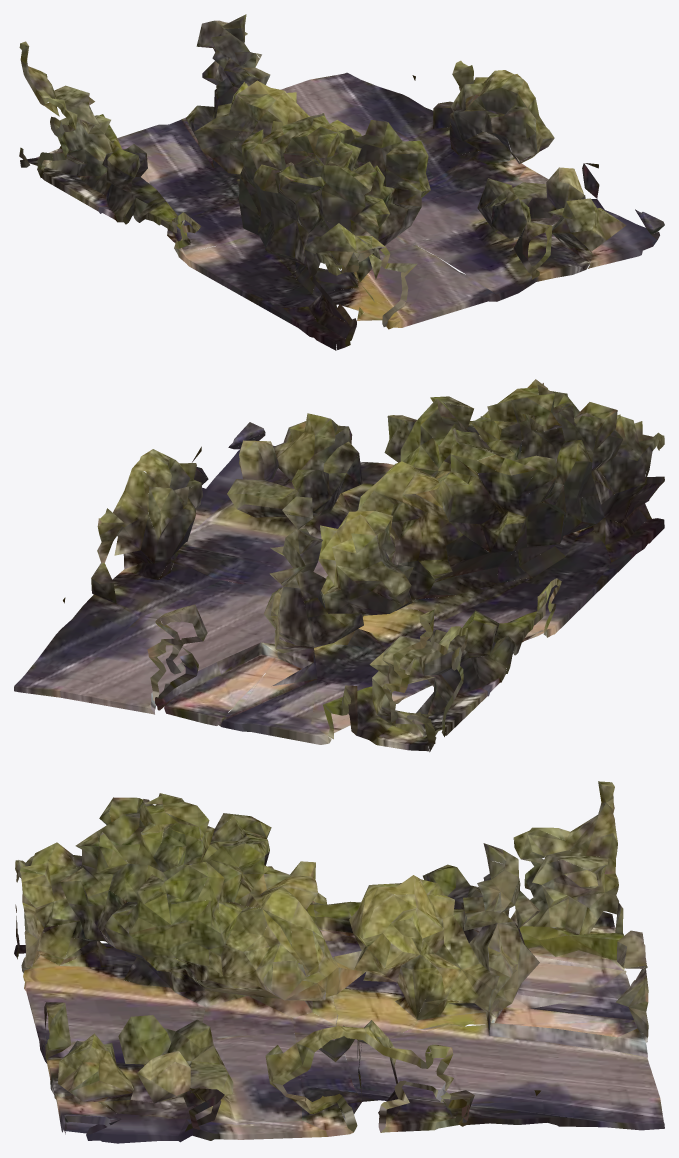
3 views of the same model, one above another, from view 1: azimuth 30°, elevation 25°; view 2: azimuth 150°, elevation 25°; view 3: azimuth 270°, elevation 25° (orthographic). The views are drawn at different scales.
Parts seen in each view (by area): view 1: Mesh_0; view 2: Mesh_0; view 3: Mesh_0.
Boxes of the visible parts, x1,y1,x2,y2 form: Mesh_0: (19,14,664,350); Mesh_0: (14,379,664,752); Mesh_0: (14,781,664,1143).
Bounding box in the file's own units: 67.79 × 27.55 × 82.53.
Materials: 2 (2 with a texture image).
